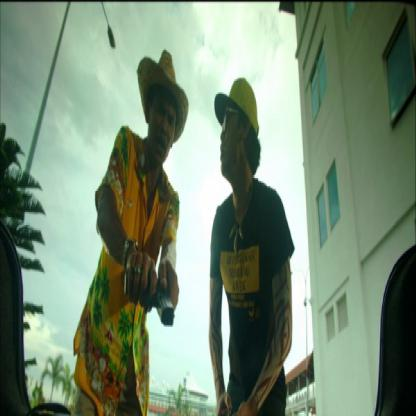Guns: (121, 256, 174, 332)
